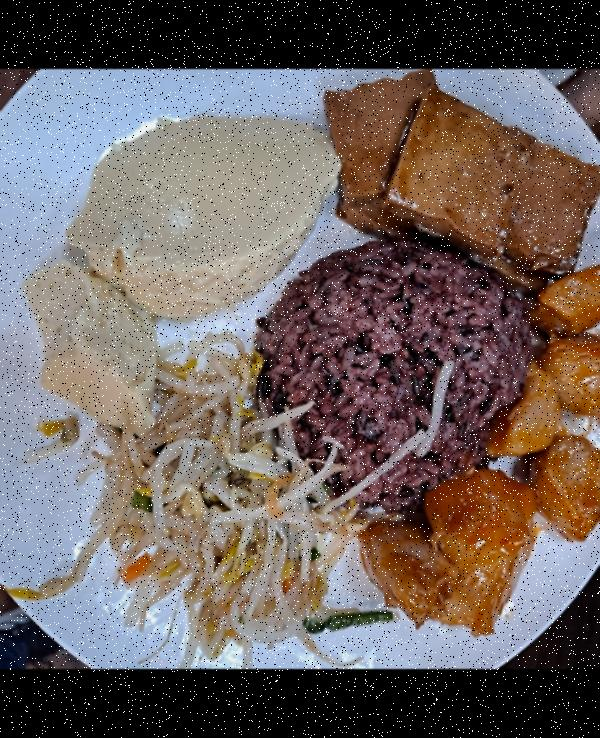plate: (0, 72, 600, 668)
purple rice: (268, 255, 526, 500)
side dish: (29, 107, 313, 406), (94, 370, 328, 644), (327, 82, 600, 269)
spicy chicken: (370, 249, 600, 636)
